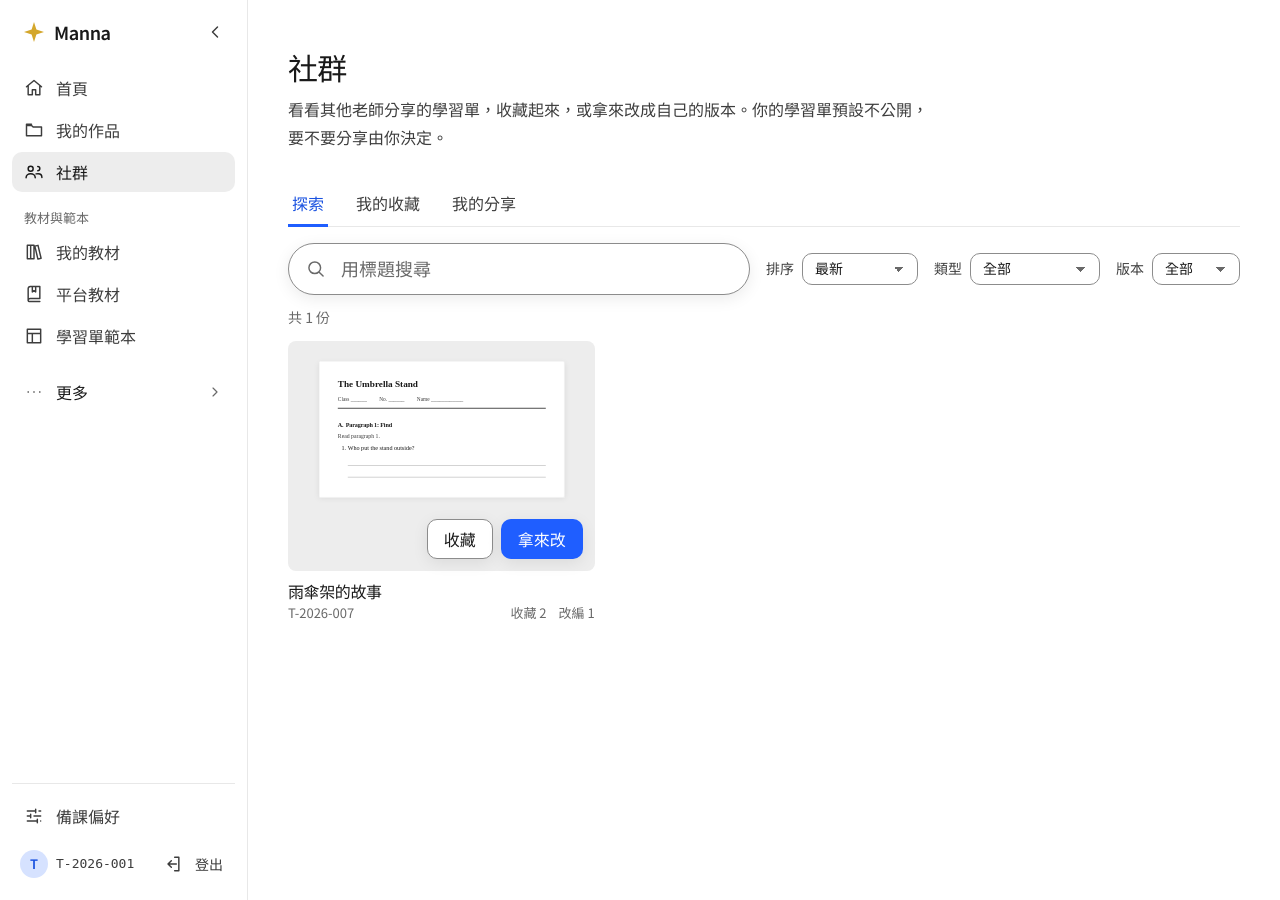
Test: 社群: tabs and explore › shows 收藏 at once and takes it back, with the error, when the server refuses
Click the button "收藏".
click(460, 539)  # box [427,519,493,559]
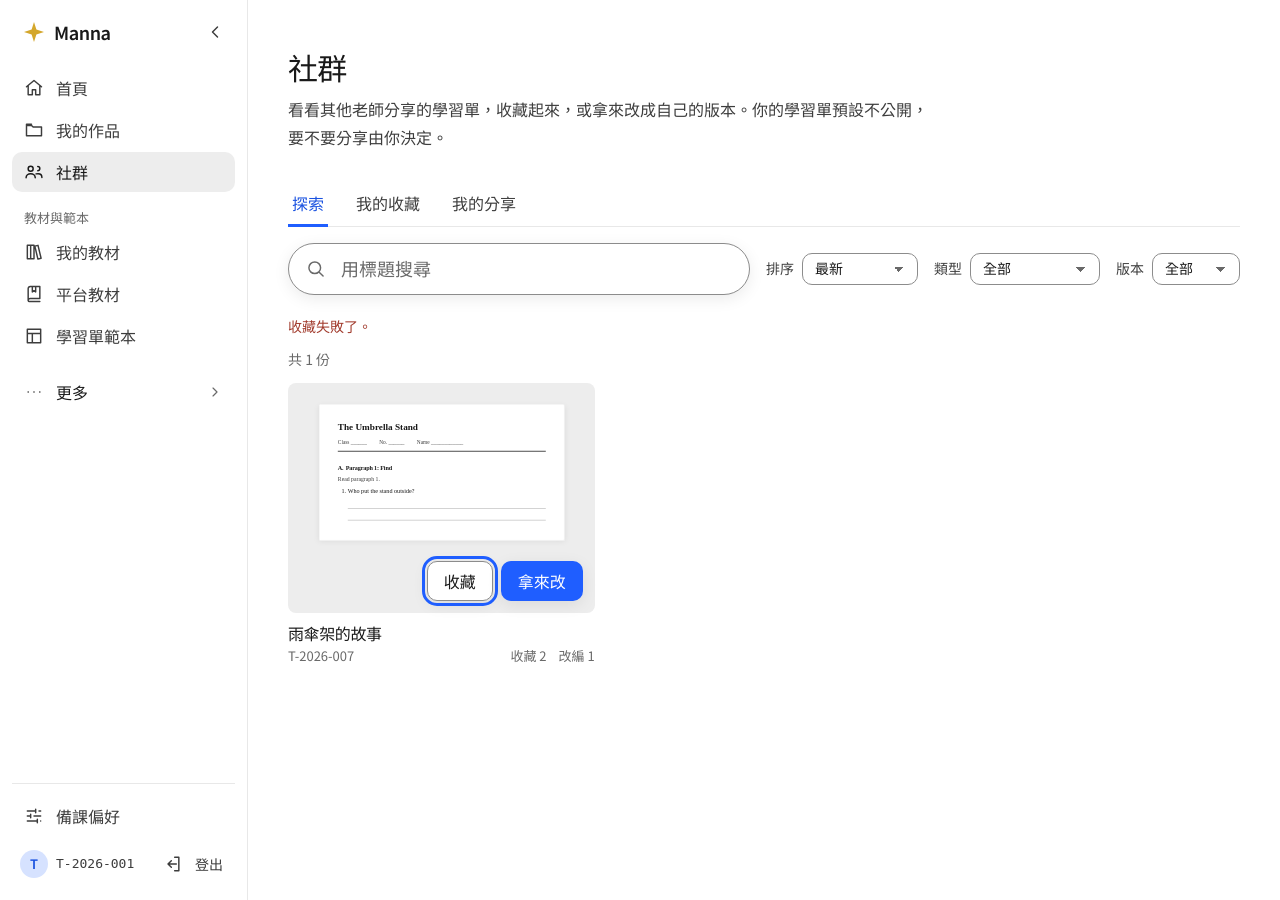
Expected: the button "收藏" is shown, [427,561,493,601]
Now the message "收藏失敗了。" is shown, box [288,316,372,336]
